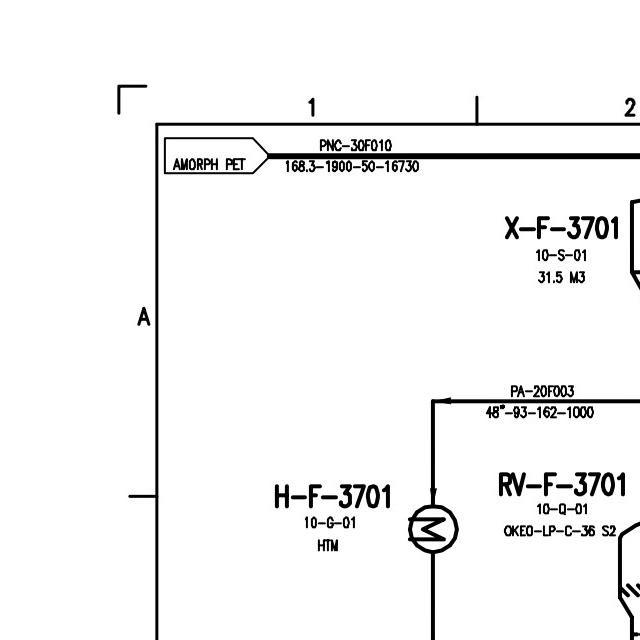HE: (405, 501, 460, 557)
